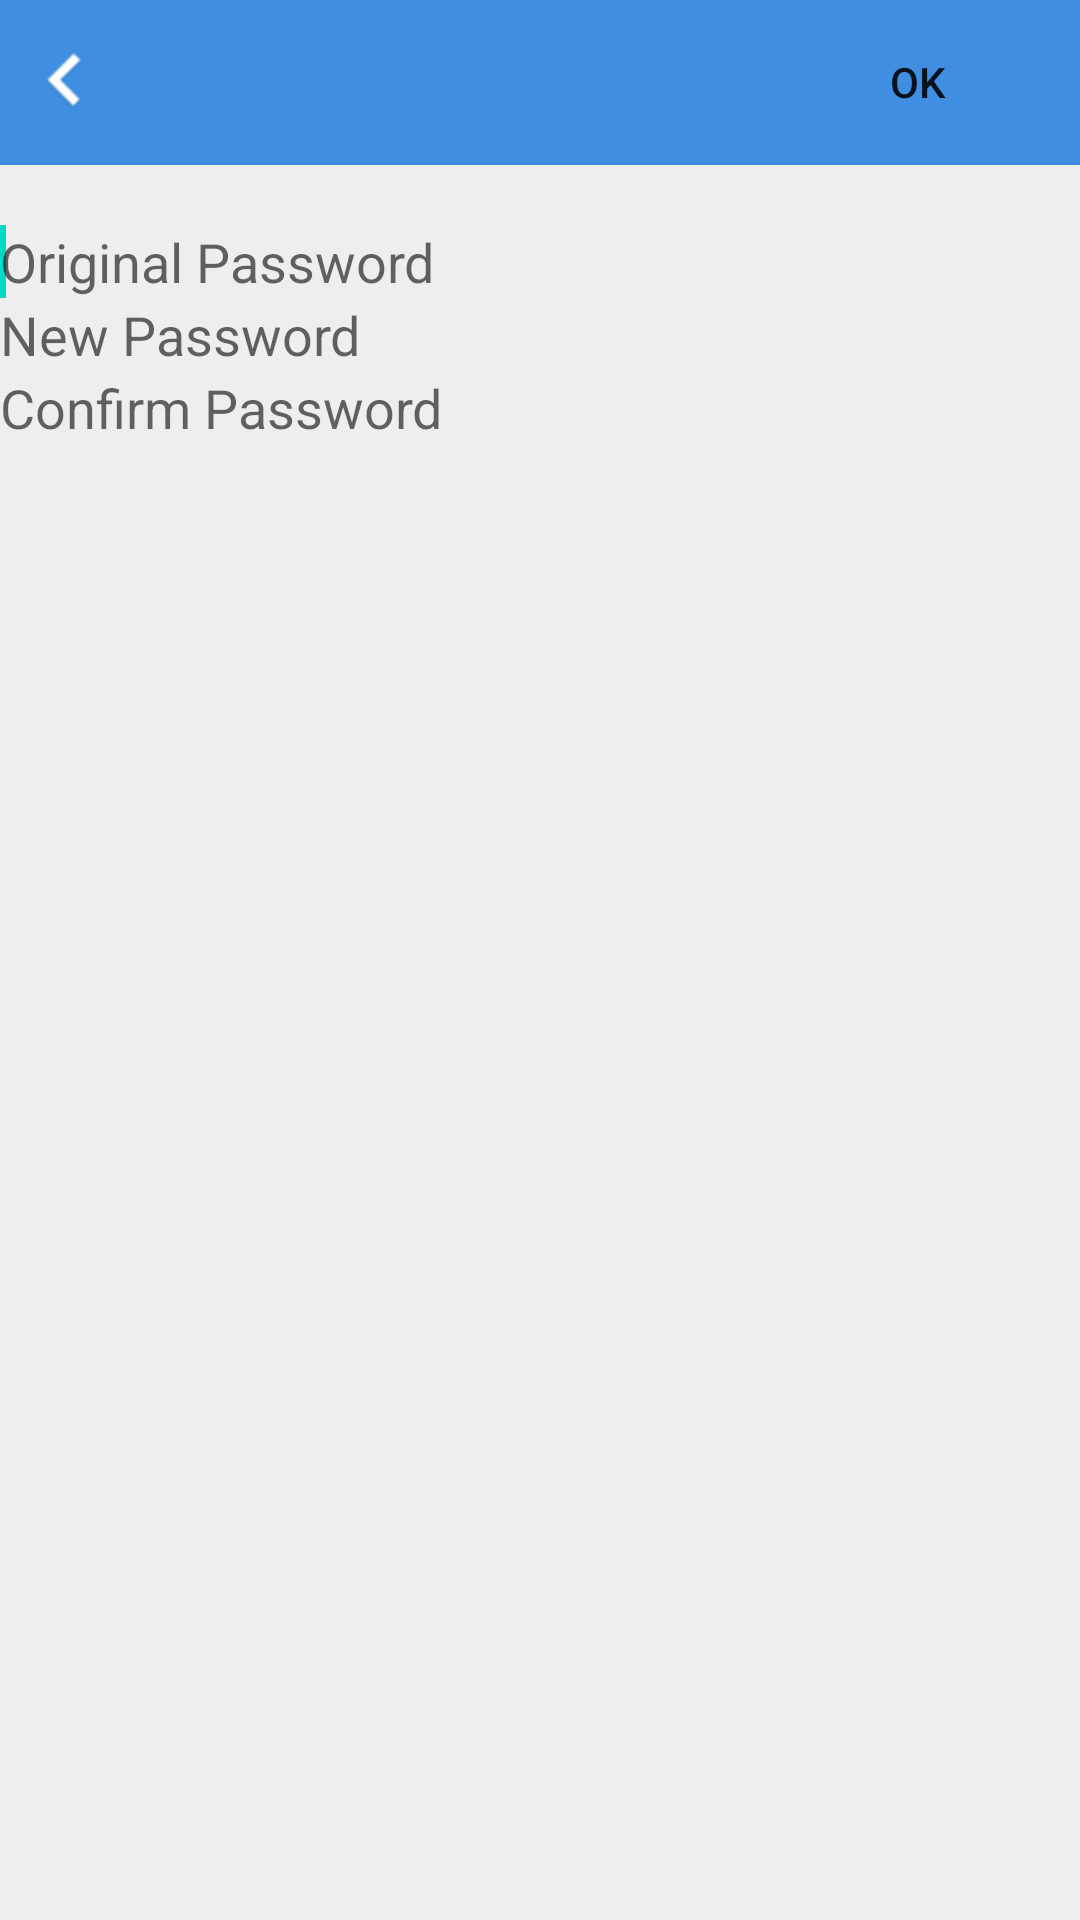

Named icons in this screenshot (1080×1920) and their bounding boxes, (x1, y1, x2, y2):
back: (47, 53, 81, 106)
